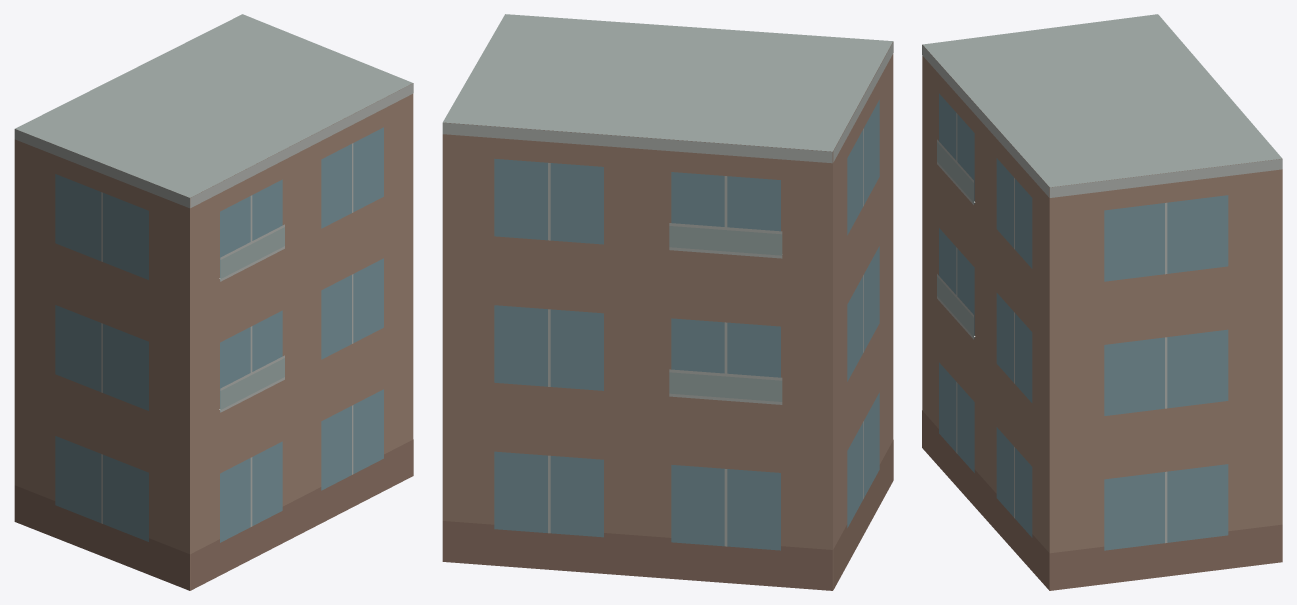
The model's file is survey-upis-32841386.glb.
3 views of the same model, side by side, from view 1: azimuth 30°, elevation 25°; view 2: azimuth 150°, elevation 25°; view 3: azimuth 270°, elevation 25° (orthographic). The views are drawn at different scales.
Visible parts, largest first — view 1: survey-upis-32841386.tmp; view 2: survey-upis-32841386.tmp; view 3: survey-upis-32841386.tmp.
Part boxes in pixels (<box>): survey-upis-32841386.tmp: <box>14,14,413,590</box>; survey-upis-32841386.tmp: <box>442,14,893,590</box>; survey-upis-32841386.tmp: <box>922,14,1282,590</box>.
Bounding box in the file's own units: 8.44 × 9.15 × 7.41.
